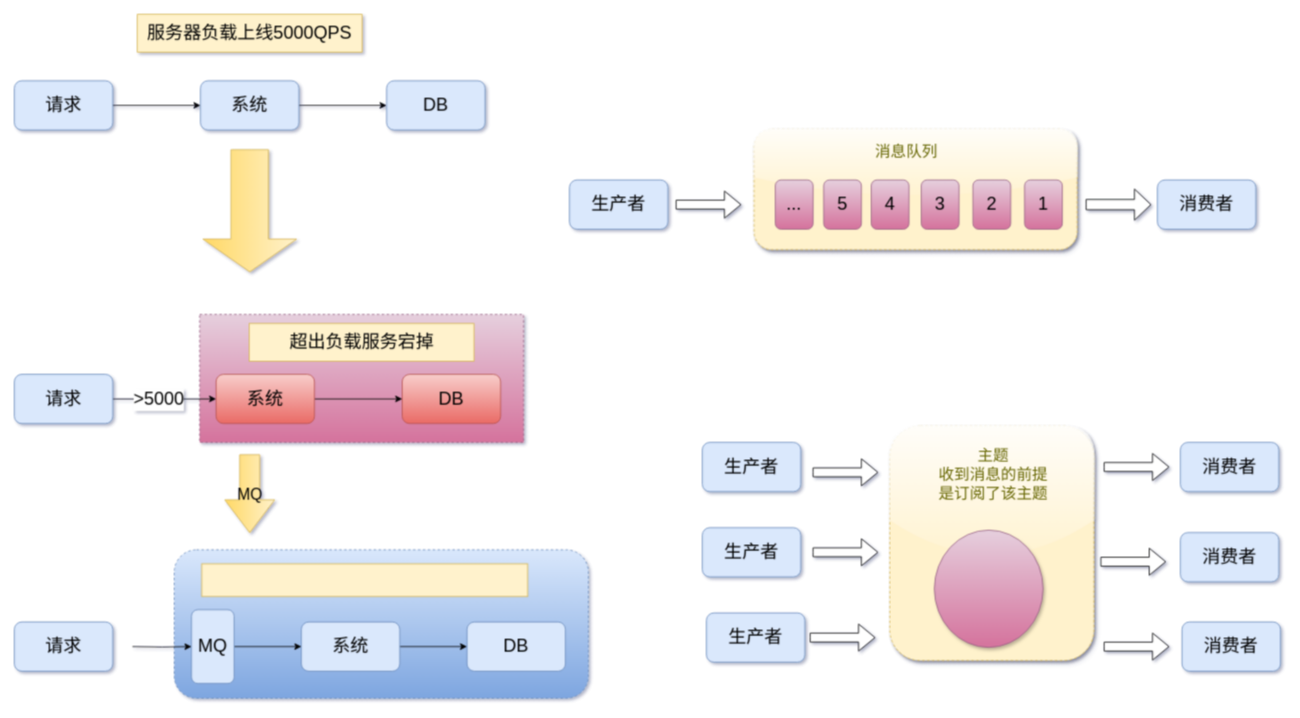
The diagram is 1300 pixels wide and 718 high, and some of its shapes have lost their labels. The centre of each missing label's shape, as x and y in pixels:
"Topic" belongs at pixel 989 589.
"增加MQ削峰，度过峰值后逐渐消费消息" belongs at pixel 364 580.
"秒杀 或 推广 场景 下" belongs at pixel 249 210.
